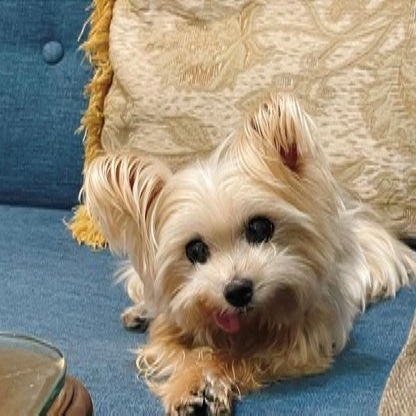yorkshire: (84, 95, 409, 414)
